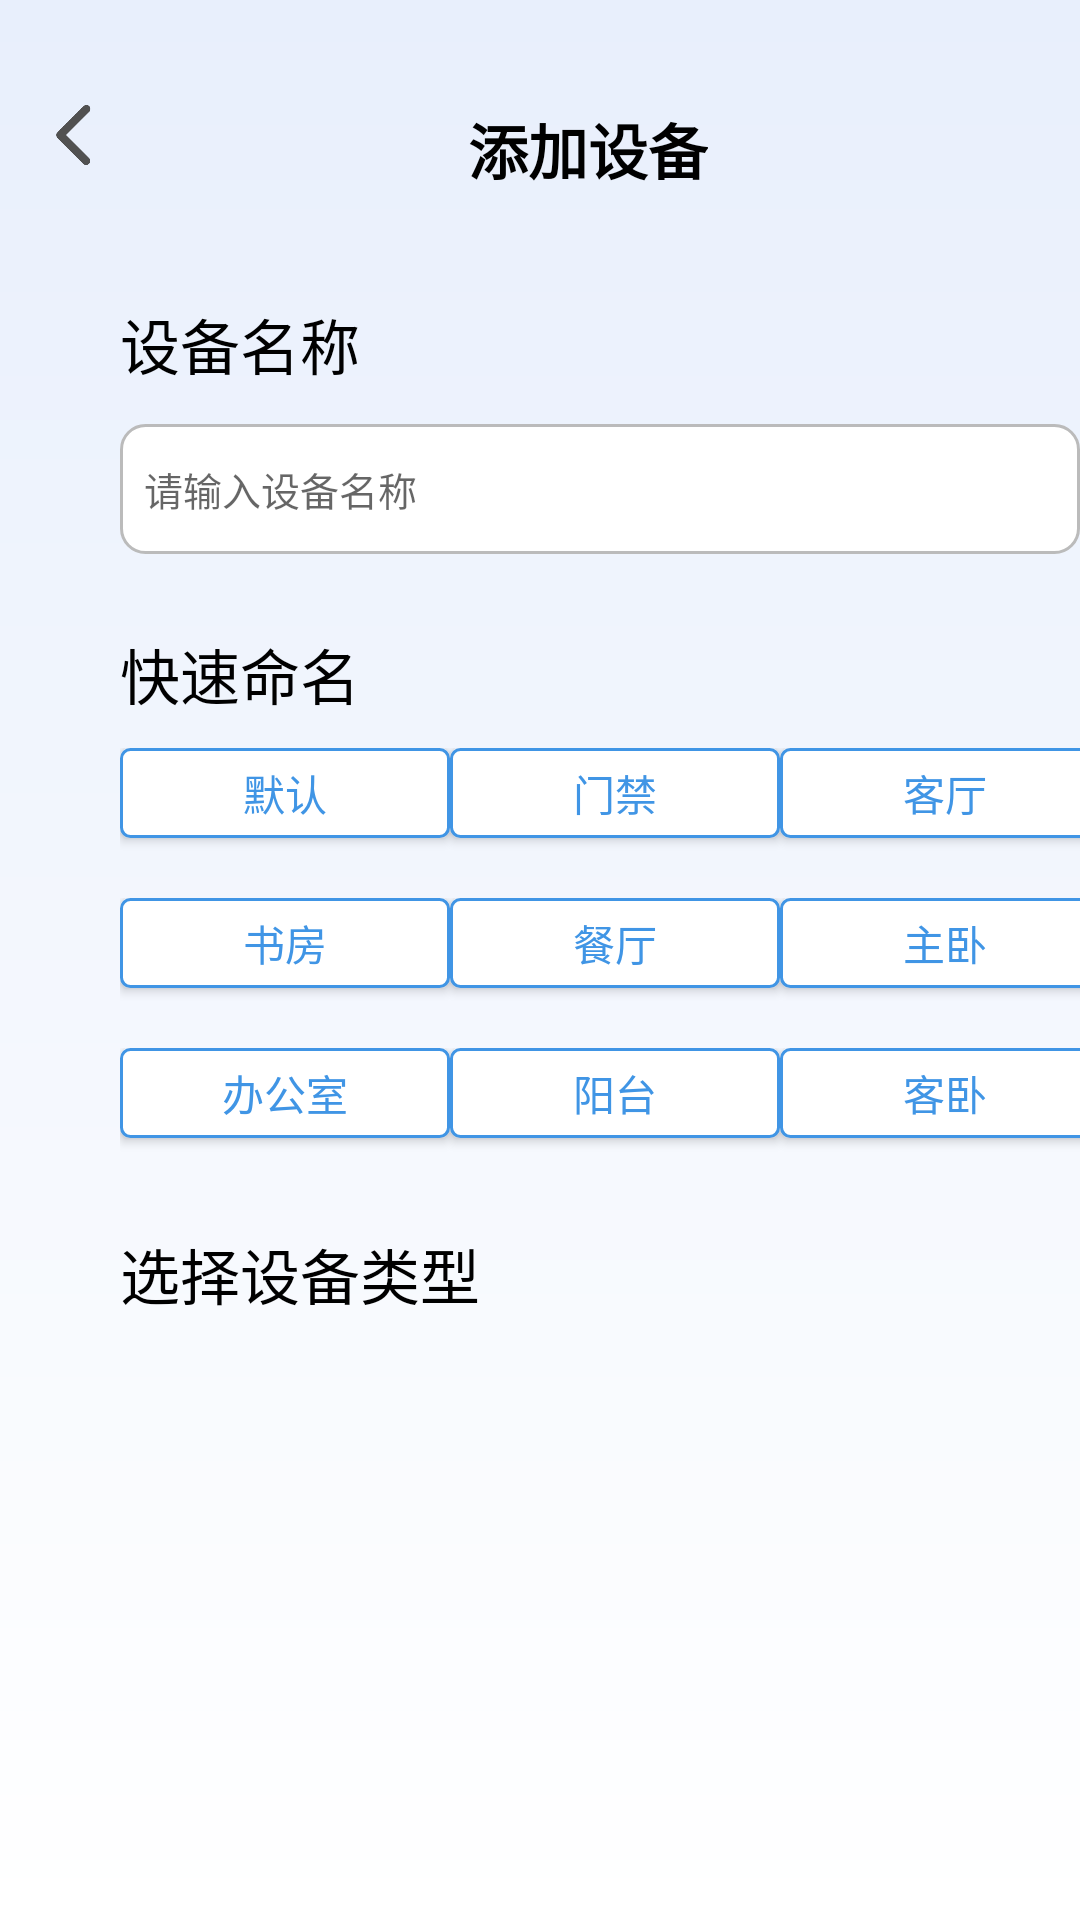

Icons on this 1080px×1920px Android screen, each with the point to tap as (x=x, y=y):
goback: (x=73, y=135)
